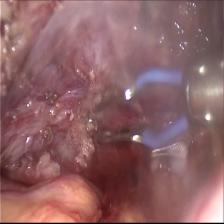Bipolar: (92, 60, 224, 156)
